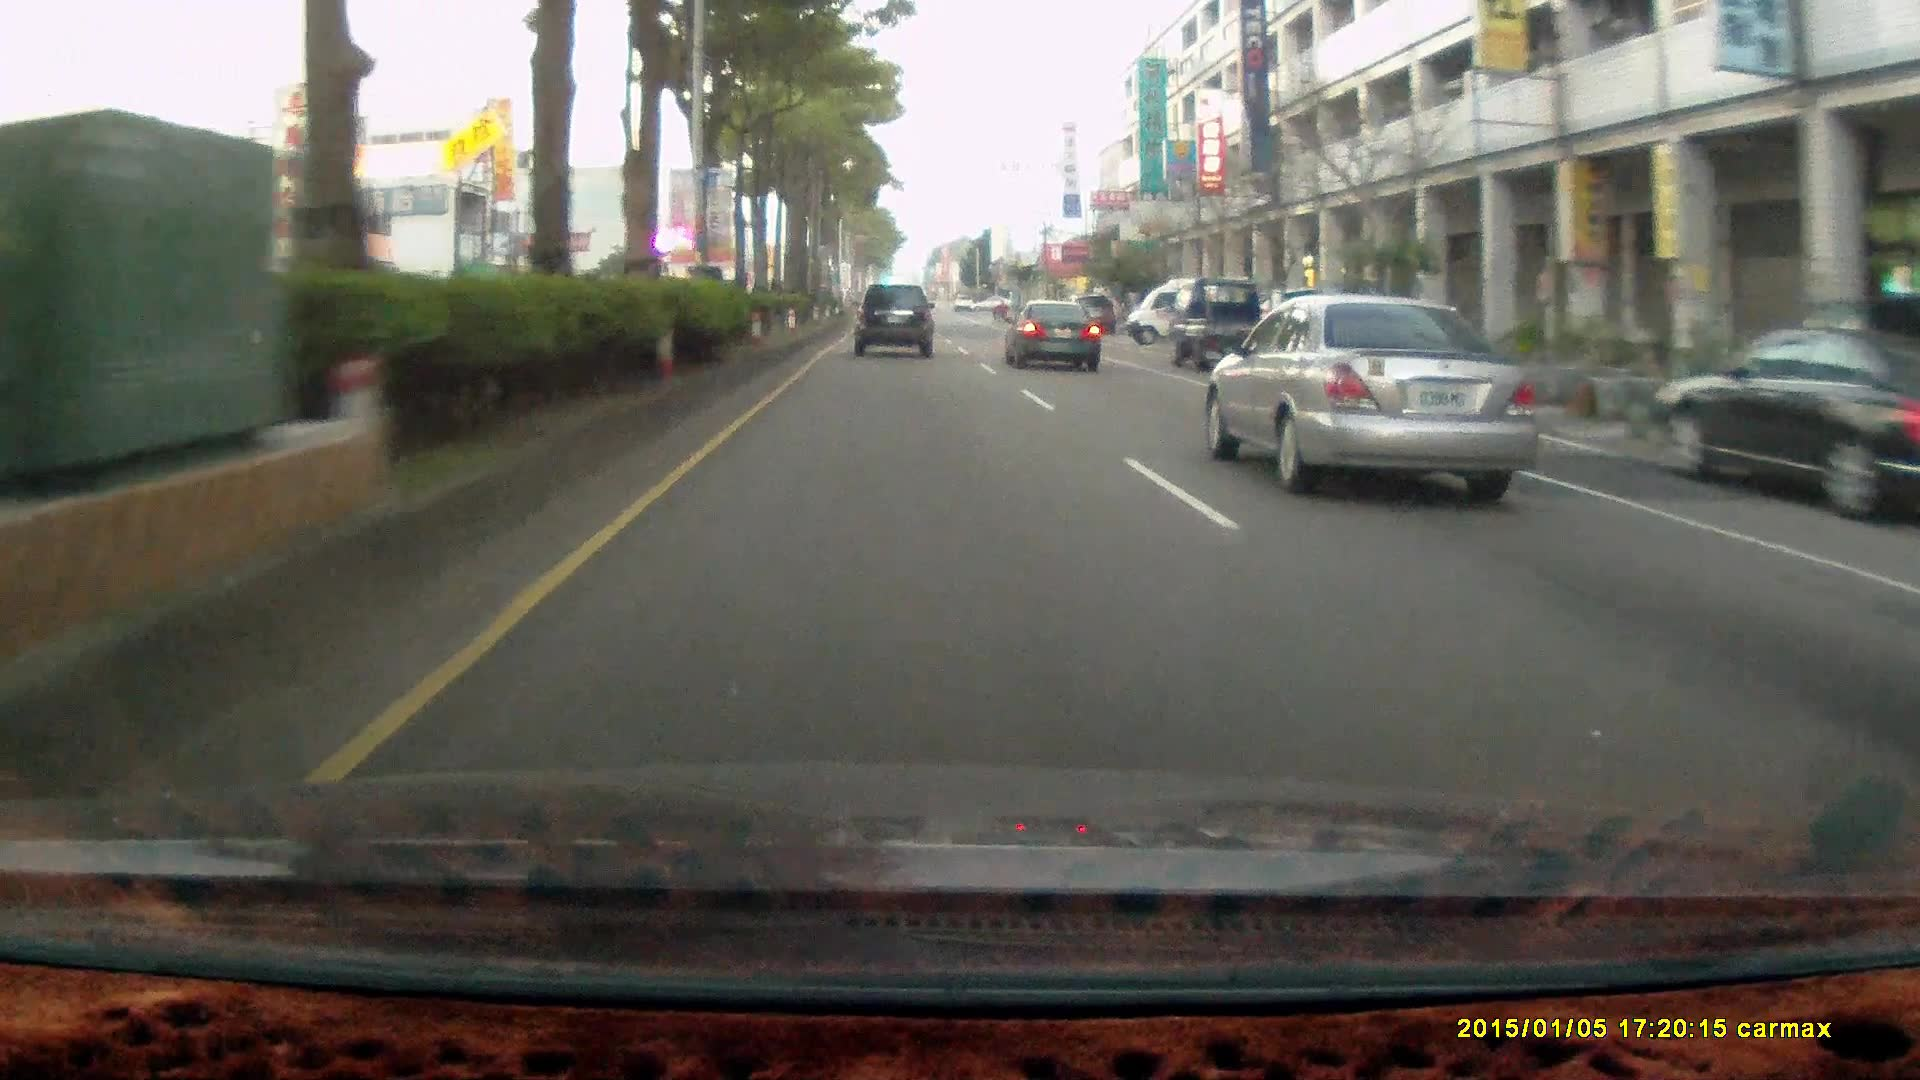vehicle: (1200, 287, 1534, 487), (1648, 320, 1920, 526), (1299, 303, 1458, 400), (1182, 276, 1294, 382), (1167, 276, 1276, 367), (1127, 276, 1257, 351), (1124, 277, 1251, 345), (1000, 298, 1104, 375), (1002, 295, 1098, 368), (853, 282, 938, 357), (853, 280, 935, 352)
